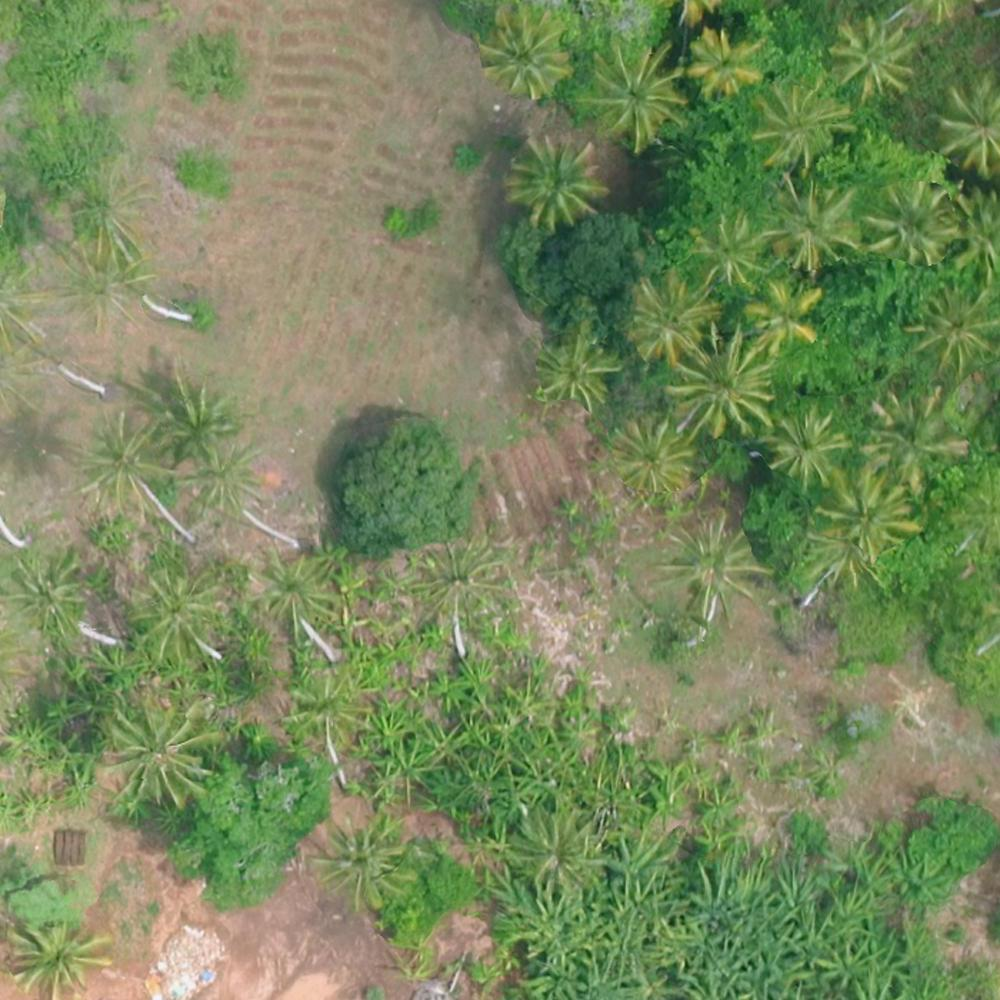Palm: (107, 701, 210, 805), (582, 42, 685, 144), (668, 333, 774, 431), (121, 569, 218, 665), (620, 269, 716, 356), (767, 178, 860, 267), (869, 393, 960, 483), (509, 133, 600, 221), (477, 7, 566, 96), (318, 811, 402, 905), (10, 915, 108, 993), (244, 541, 335, 625), (825, 473, 912, 556), (751, 80, 835, 164), (75, 417, 161, 499), (867, 182, 952, 264), (907, 286, 991, 366), (825, 18, 905, 98), (158, 377, 238, 456), (9, 557, 86, 638), (611, 421, 694, 495), (534, 330, 618, 400), (743, 281, 821, 354), (687, 210, 762, 282), (286, 666, 365, 730), (688, 27, 761, 96), (765, 413, 840, 480)
